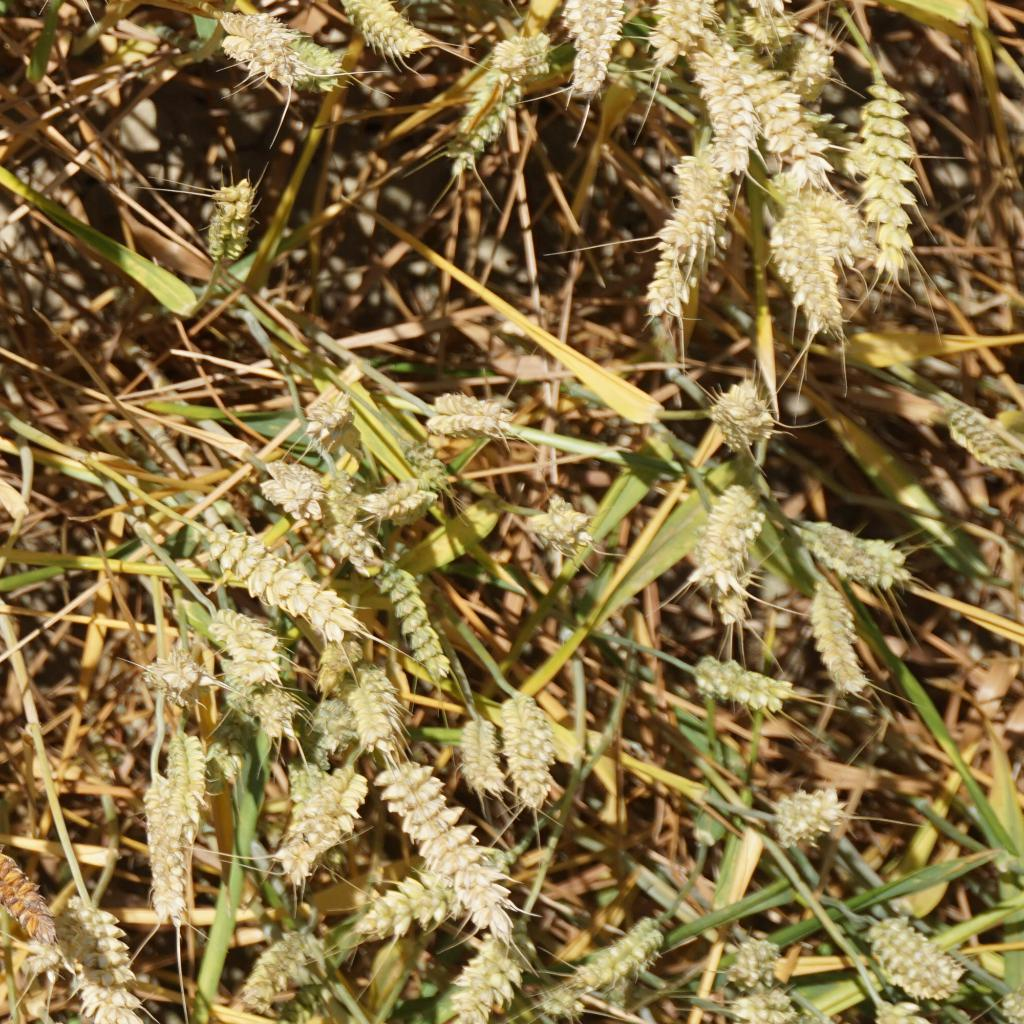0-0: (369, 749, 515, 907), (846, 68, 924, 287), (203, 536, 365, 635), (118, 760, 195, 927), (444, 49, 536, 180), (766, 188, 843, 338), (351, 856, 510, 925), (211, 4, 328, 91), (52, 883, 146, 982), (487, 692, 564, 809), (797, 516, 924, 585), (866, 915, 971, 998), (691, 480, 772, 587), (692, 32, 756, 163), (374, 556, 448, 668), (803, 579, 870, 691), (694, 638, 797, 709), (331, 0, 440, 67), (561, 911, 665, 981), (667, 140, 726, 263), (556, 0, 631, 91), (251, 455, 334, 536), (799, 172, 867, 270), (513, 479, 604, 551), (438, 941, 516, 1024), (736, 54, 803, 150), (241, 935, 315, 1018), (335, 665, 408, 749), (444, 702, 508, 797), (709, 371, 784, 452), (199, 170, 268, 257), (943, 398, 1020, 475), (312, 489, 387, 568), (426, 379, 516, 444), (757, 788, 847, 852), (0, 822, 54, 927), (270, 759, 321, 868), (153, 715, 219, 799), (71, 955, 147, 1024), (732, 928, 804, 998), (367, 463, 444, 527), (192, 601, 275, 659), (641, 239, 698, 321), (480, 21, 563, 75), (315, 769, 368, 839), (787, 31, 840, 98), (133, 643, 195, 698), (314, 625, 367, 687), (726, 979, 797, 1024), (303, 374, 355, 433), (239, 674, 294, 729), (533, 972, 592, 1019), (310, 694, 351, 751), (735, 0, 816, 28)
